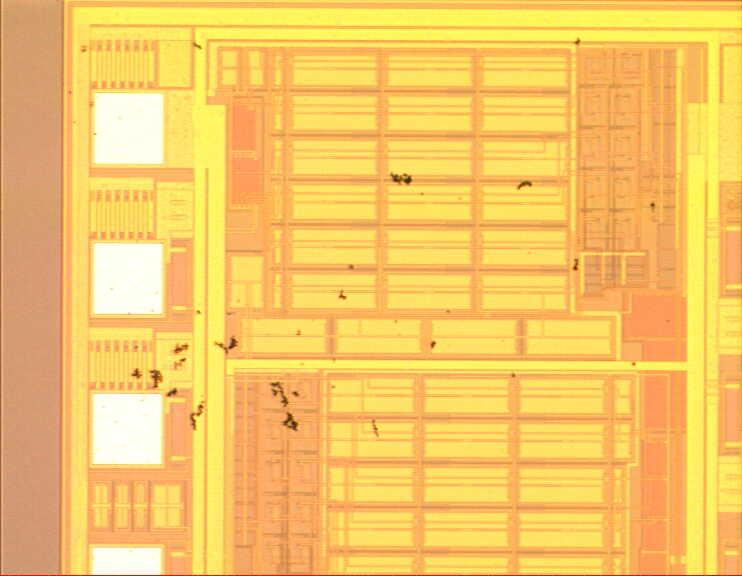PO CONTAMINATION: (127, 33, 676, 440)
